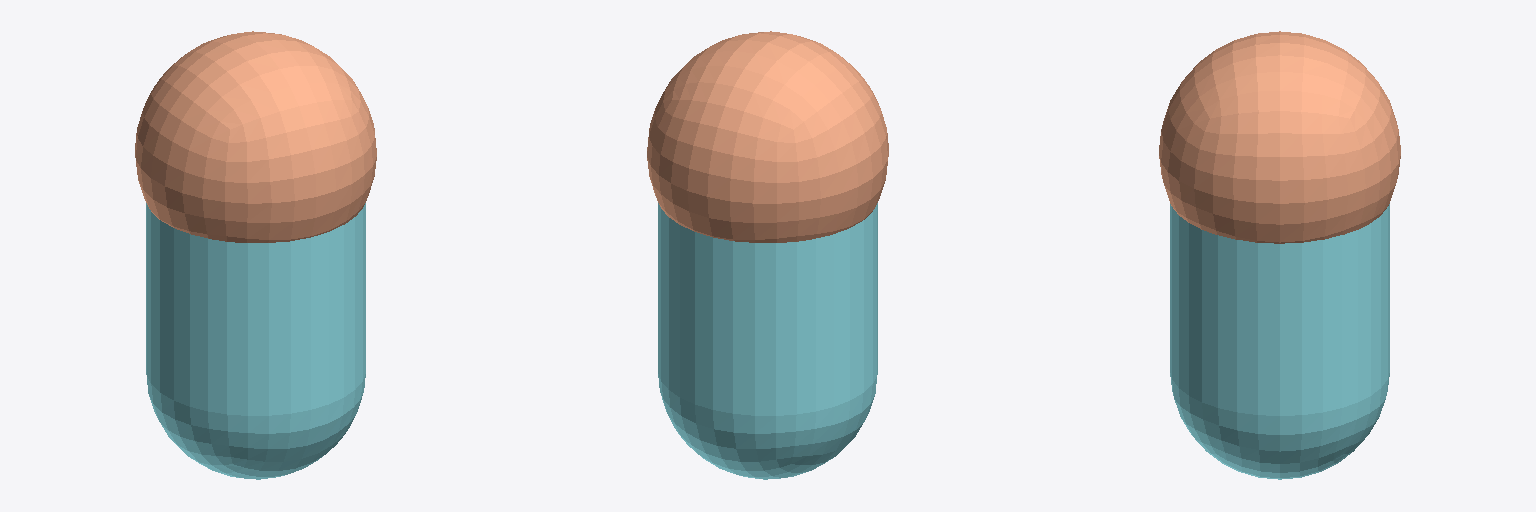
Rendered from NavAgentCharacter.obj.
The picture shows the model from 3 angles: view 1: azimuth 30°, elevation 25°; view 2: azimuth 150°, elevation 25°; view 3: azimuth 270°, elevation 25°; orthographic projection.
Visible parts, largest first — view 1: NavAgentCharacter; view 2: NavAgentCharacter; view 3: NavAgentCharacter.
Part boxes in pixels (x1,y1,x2,y2): NavAgentCharacter: (135, 31, 376, 479); NavAgentCharacter: (647, 31, 888, 479); NavAgentCharacter: (1159, 31, 1400, 479).
Size of the model in its own units: 0.165 by 0.3202 by 0.165.